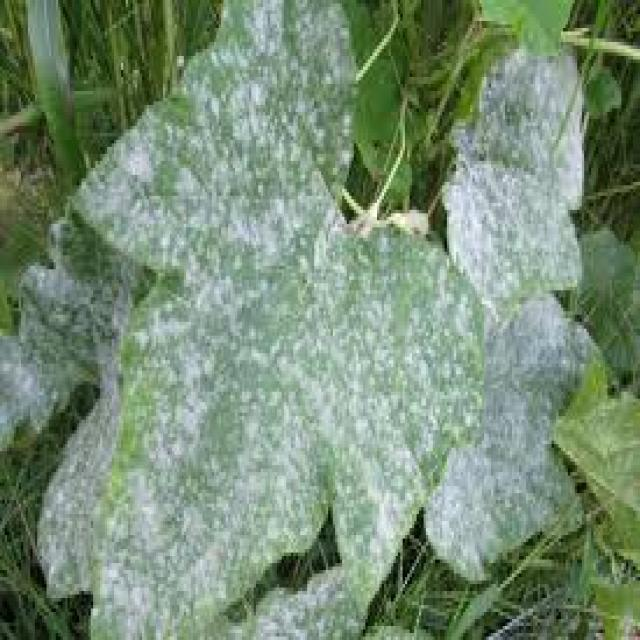powdery-mildew: (109, 141, 237, 631), (454, 59, 566, 577), (240, 0, 334, 516), (340, 234, 424, 557), (2, 232, 104, 430), (50, 414, 102, 590)
